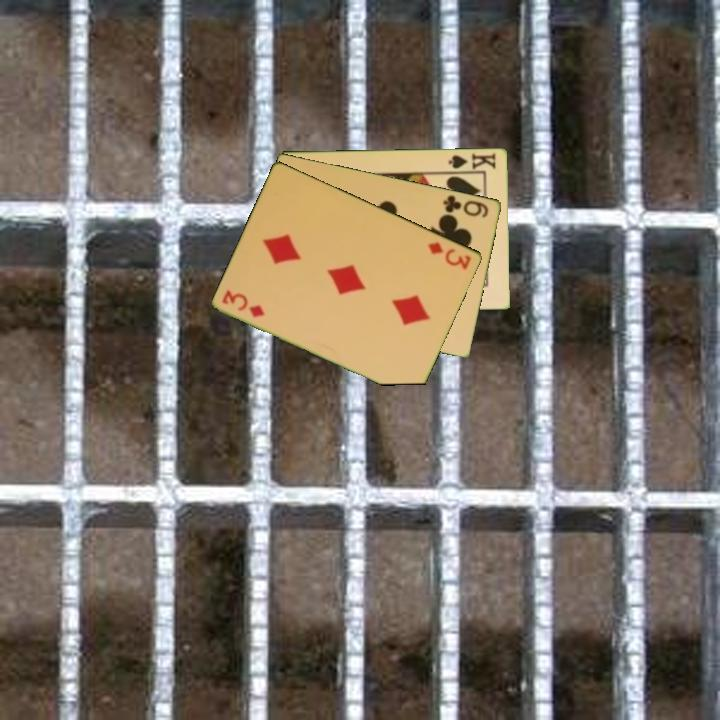3d: (219, 286, 268, 321), (424, 238, 474, 272)
6c: (440, 191, 492, 220)
Ks: (445, 149, 499, 174)
